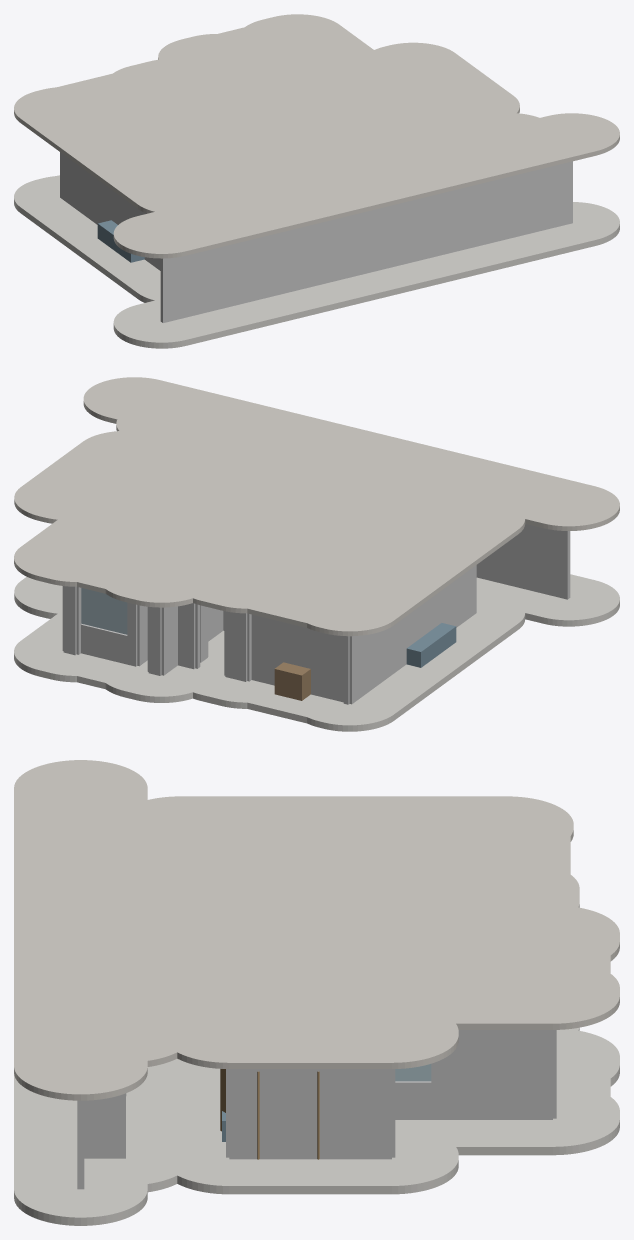
Rendered from house_model.glb.
The picture shows the model from 3 angles, top to bottom: view 1: azimuth 30°, elevation 25°; view 2: azimuth 150°, elevation 25°; view 3: azimuth 270°, elevation 25°; orthographic projection. The views are drawn at different scales.
Parts seen in each view (by area): view 1: part_1, part_0, part_384, part_385, part_373, part_386, part_393; view 2: part_1, part_0, part_373, part_161, part_384, part_116, part_177, part_114, part_393, part_391, part_357, part_356 (+4 smaller); view 3: part_1, part_0, part_313, part_340, part_337, part_381, part_382, part_386, part_383.
Part boxes in pixels (x1=…): part_1: x1=14, y1=14, x2=619, y2=258; part_0: x1=14, y1=175, x2=619, y2=348; part_384: x1=160, y1=185, x2=475, y2=322; part_385: x1=475, y1=173, x2=525, y2=246; part_373: x1=60, y1=152, x2=160, y2=270; part_386: x1=526, y1=161, x2=572, y2=234; part_393: x1=97, y1=220, x2=144, y2=262; part_1: x1=14, y1=377, x2=619, y2=636; part_0: x1=14, y1=574, x2=619, y2=731; part_373: x1=349, y1=565, x2=476, y2=704; part_161: x1=251, y1=614, x2=343, y2=702; part_384: x1=476, y1=524, x2=570, y2=599; part_116: x1=81, y1=588, x2=127, y2=634; part_177: x1=225, y1=611, x2=247, y2=681; part_114: x1=81, y1=623, x2=127, y2=664; part_393: x1=406, y1=623, x2=456, y2=667; part_391: x1=274, y1=662, x2=310, y2=700; part_357: x1=178, y1=603, x2=195, y2=669; part_356: x1=161, y1=606, x2=177, y2=675; part_1: x1=14, y1=760, x2=619, y2=1100; part_0: x1=14, y1=1027, x2=619, y2=1225; part_313: x1=229, y1=1069, x2=391, y2=1159; part_340: x1=431, y1=1030, x2=552, y2=1119; part_337: x1=395, y1=1081, x2=431, y2=1119; part_381: x1=111, y1=1093, x2=125, y2=1158; part_382: x1=96, y1=1097, x2=110, y2=1158; part_386: x1=77, y1=1100, x2=84, y2=1189; part_383: x1=84, y1=1100, x2=95, y2=1158.
Bounding box in the file's own units: 17.18 × 3.15 × 13.16.
